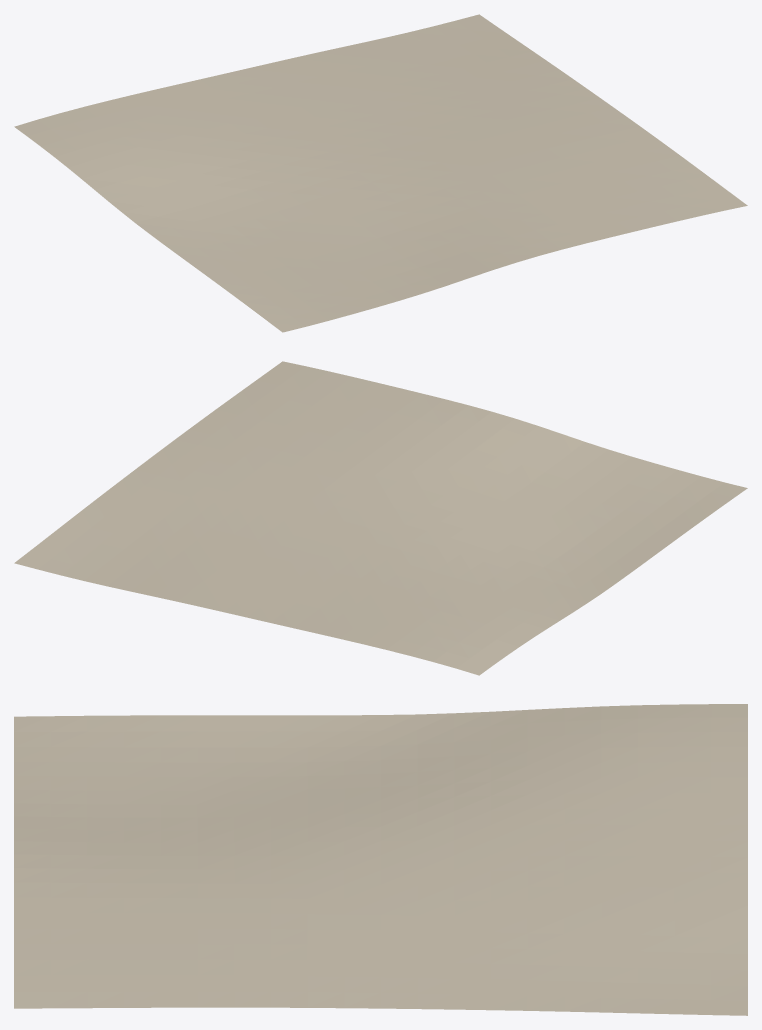
File: bolak_-13_10.glb
3 renders of one model, top to bottom at view 1: azimuth 30°, elevation 25°; view 2: azimuth 150°, elevation 25°; view 3: azimuth 270°, elevation 25°, orthographic. The views are drawn at different scales.
Parts seen in each view (by area): view 1: Yer_Tuproq-col; view 2: Yer_Tuproq-col; view 3: Yer_Tuproq-col.
Part boxes in pixels (left/top/right/bottom): Yer_Tuproq-col: left=14, top=14, right=747, bottom=332; Yer_Tuproq-col: left=14, top=361, right=747, bottom=675; Yer_Tuproq-col: left=14, top=704, right=747, bottom=1015.
Size of the model in its own units: 400 by 12.47 by 400.
